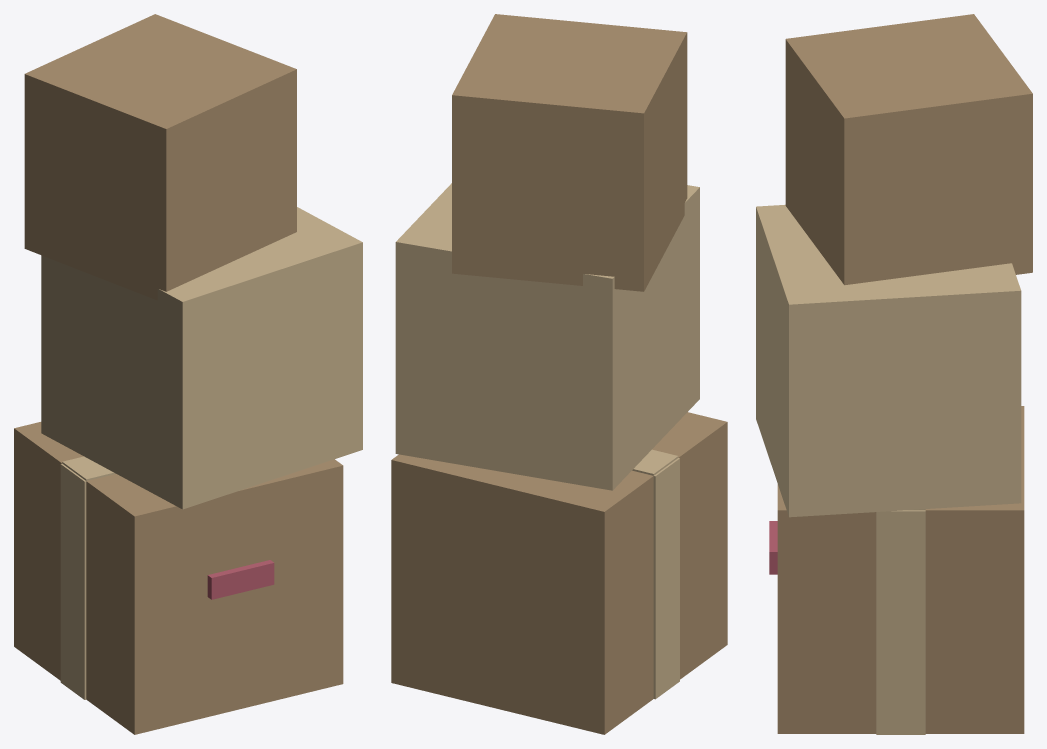
Rendered from mdl_objects_crate_stack_001.glb.
The picture shows the model from 3 angles, left to right: view 1: azimuth 30°, elevation 25°; view 2: azimuth 150°, elevation 25°; view 3: azimuth 270°, elevation 25°; orthographic projection. The views are drawn at different scales.
Visible parts, largest first — view 1: m_madera, m_madera_clara, m_carmesi; view 2: m_madera, m_madera_clara; view 3: m_madera, m_madera_clara, m_carmesi.
Boxes of the visible parts, box(x1,y1,x2,y2) form: m_madera: box(14, 14, 343, 734); m_madera_clara: box(41, 207, 362, 699); m_carmesi: box(207, 560, 274, 599); m_madera: box(391, 14, 727, 734); m_madera_clara: box(395, 183, 699, 699); m_madera: box(777, 14, 1032, 733); m_madera_clara: box(756, 204, 1021, 734); m_carmesi: box(769, 521, 777, 574).
Size of the model in its own units: 0.7129 by 1.63 by 0.6729.
